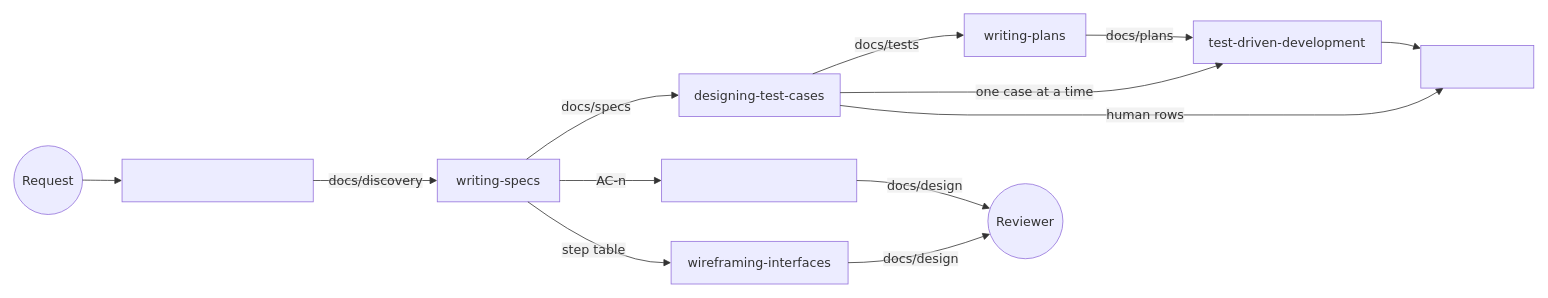
Some shapes in this 1548 by 298 pixel diagram are drawn without their labels. The box of each missing label's shape, as (x1, y1, x2, y2) in pixels:
diagramming-architecture: (661, 158, 857, 202)
discovering-requirements: (121, 158, 313, 202)
running-uat: (1420, 45, 1534, 88)
